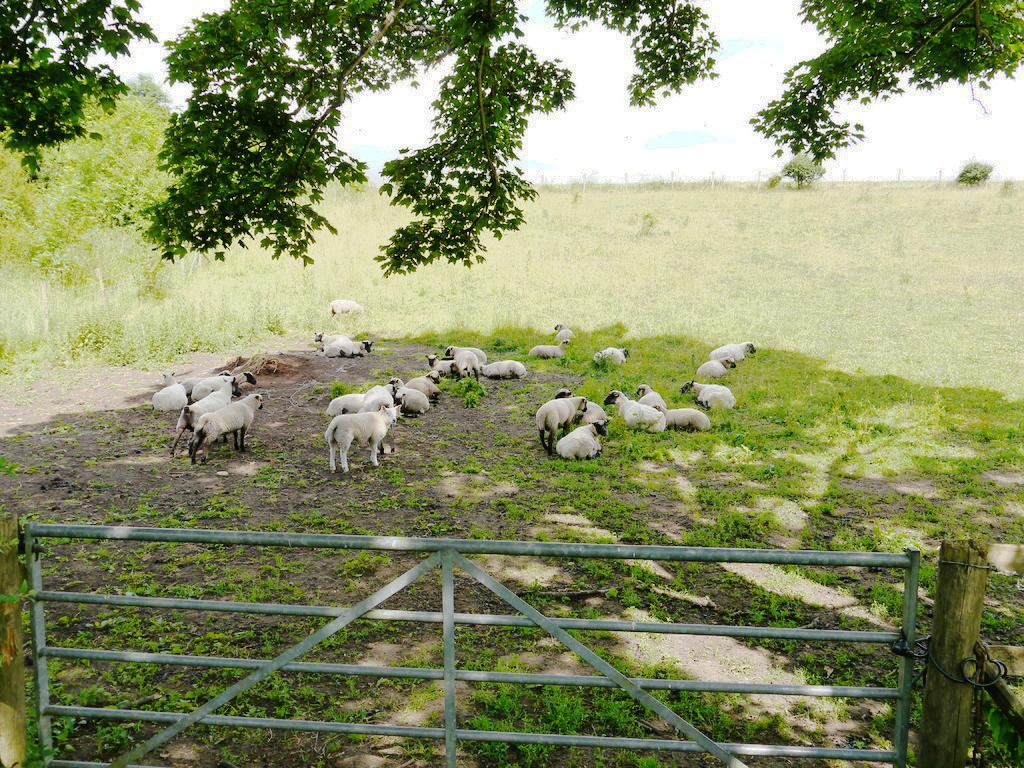Sheep: (186, 392, 266, 466), (171, 373, 239, 456), (325, 405, 398, 472), (533, 396, 589, 451), (602, 388, 666, 432), (358, 386, 394, 452), (553, 418, 607, 460), (678, 379, 738, 415), (192, 371, 257, 403), (556, 386, 610, 424), (650, 403, 710, 430), (390, 377, 430, 415), (447, 347, 483, 386), (326, 392, 368, 420), (182, 369, 230, 393), (405, 367, 445, 395), (698, 356, 738, 382), (708, 340, 754, 362), (528, 340, 574, 360), (633, 384, 669, 409), (482, 359, 526, 379), (592, 345, 633, 366), (326, 340, 374, 356), (448, 346, 486, 366), (426, 354, 455, 378), (315, 328, 351, 346), (331, 300, 362, 316), (552, 324, 576, 340)
